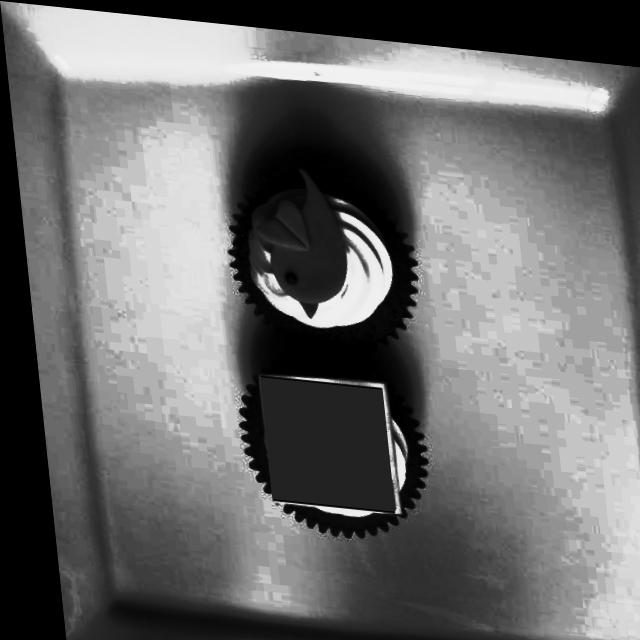qr_code: (252, 371, 385, 503)
